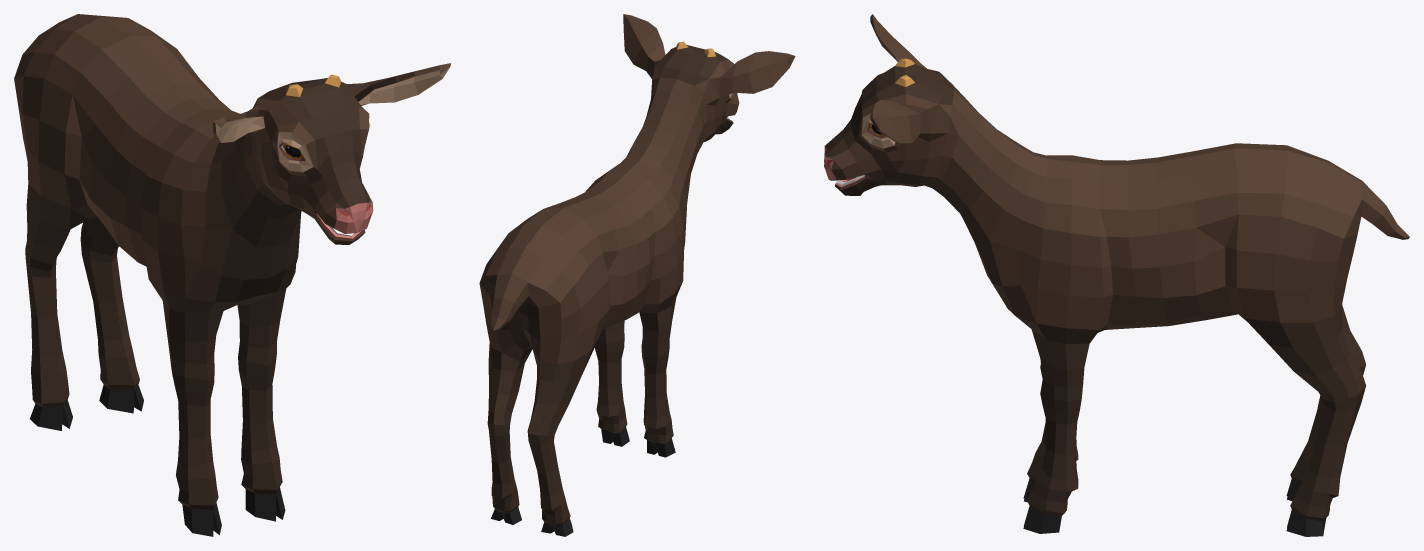
Rendered from LowPoly_Goatling_2.obj.
The picture shows the model from 3 angles, left to right: view 1: azimuth 30°, elevation 25°; view 2: azimuth 150°, elevation 25°; view 3: azimuth 270°, elevation 25°; orthographic projection. The views are drawn at different scales.
Visible parts, largest first — view 1: Goatling_2_Cube.003; view 2: Goatling_2_Cube.003; view 3: Goatling_2_Cube.003.
Part boxes in pixels (bbox=[...]): Goatling_2_Cube.003: bbox=[14, 14, 450, 536]; Goatling_2_Cube.003: bbox=[479, 14, 795, 536]; Goatling_2_Cube.003: bbox=[824, 14, 1409, 536].
Size of the model in its own units: 0.2081 by 0.4165 by 0.4936.
